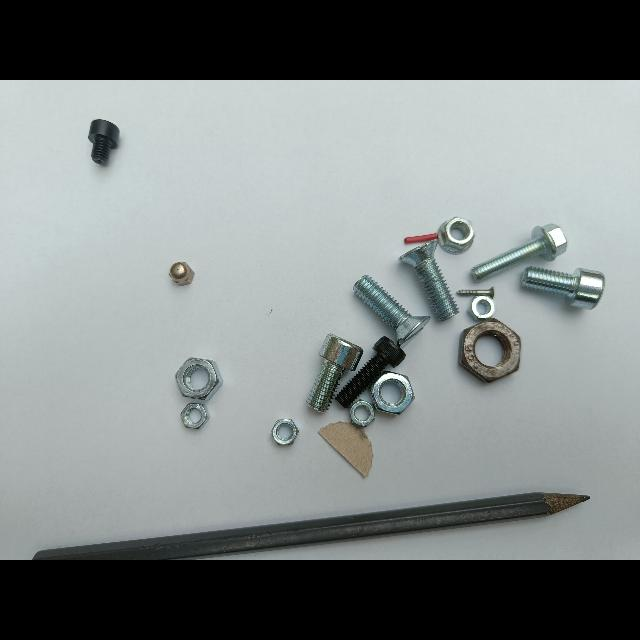bolt: (471, 224, 567, 282), (353, 276, 430, 346), (335, 336, 405, 408), (399, 240, 459, 321), (307, 334, 363, 412), (522, 266, 605, 310), (88, 120, 120, 165)
nuts: (459, 318, 521, 383), (175, 358, 223, 400), (371, 372, 414, 415), (437, 217, 474, 254), (181, 403, 209, 429), (271, 419, 299, 445), (468, 295, 495, 321), (350, 399, 375, 427), (169, 262, 194, 286)
